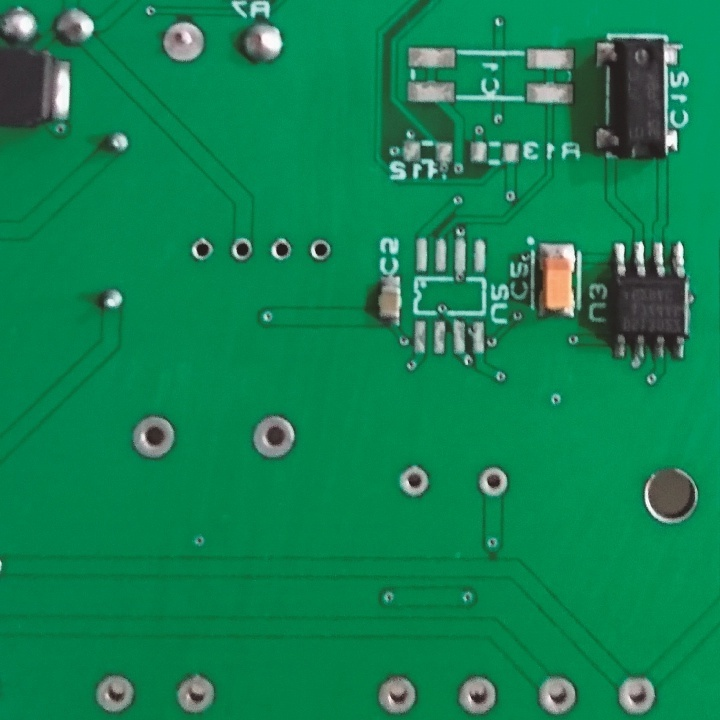F: (127, 413, 183, 464), (248, 412, 298, 461), (88, 670, 139, 715), (163, 17, 207, 68), (455, 670, 499, 718), (614, 672, 659, 718), (375, 672, 420, 716), (173, 672, 217, 717), (532, 675, 580, 716), (393, 460, 431, 500), (474, 465, 510, 500), (227, 236, 255, 264), (266, 236, 293, 265), (190, 237, 216, 263), (308, 236, 332, 262)
